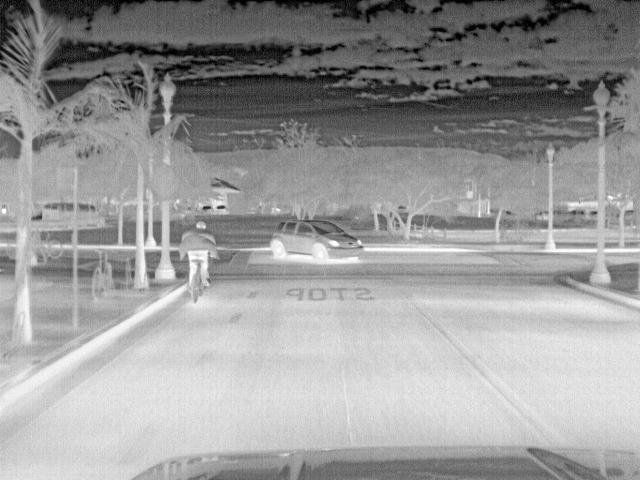car: (268, 216, 368, 262), (40, 200, 74, 232), (81, 202, 114, 232)
person: (177, 220, 221, 294)
